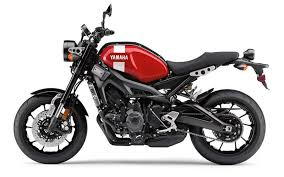motorbike: (12, 3, 271, 171)
